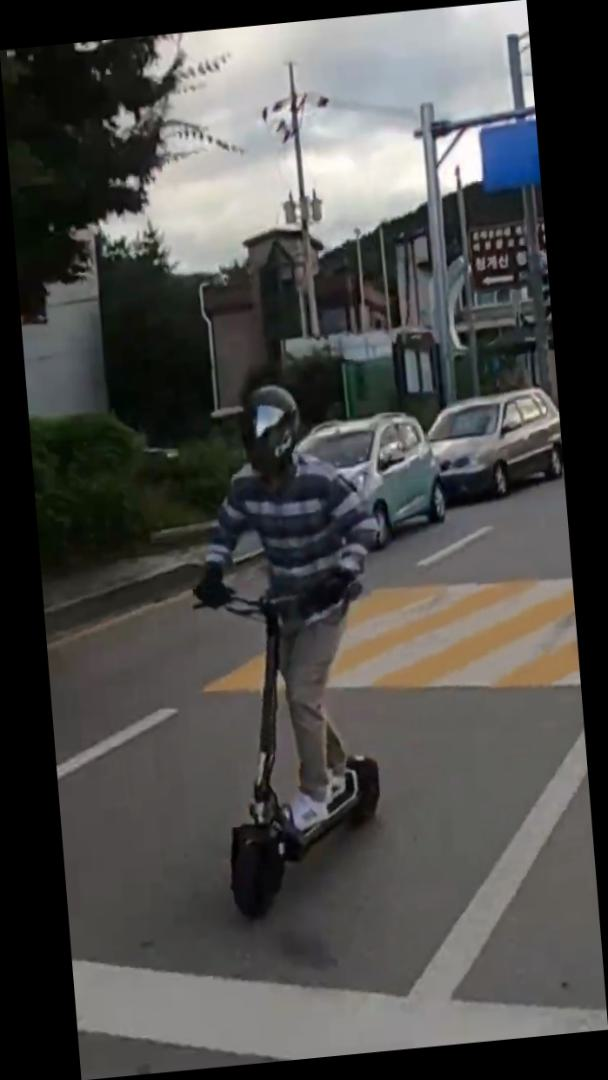helmet: (172, 372, 411, 927)
